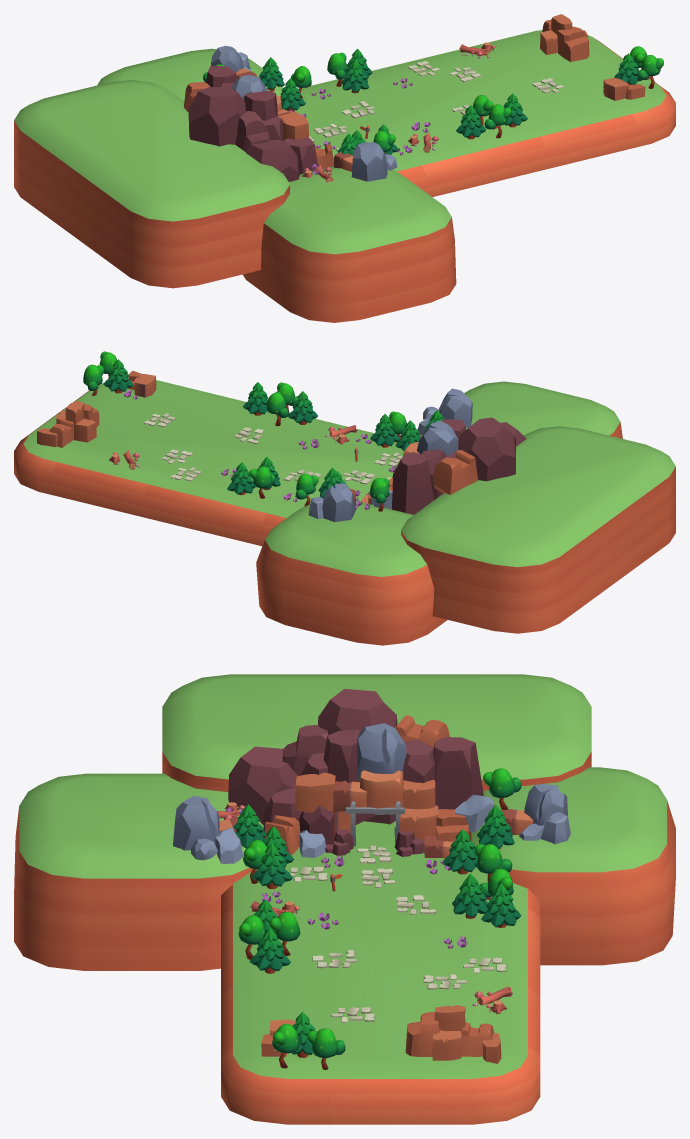
File: Grass Level (1).fbx
3 views of the same model, one above another, from view 1: azimuth 30°, elevation 25°; view 2: azimuth 150°, elevation 25°; view 3: azimuth 270°, elevation 25° (orthographic). The views are drawn at different scales.
Visible parts, largest first — view 1: Cube.005, Cube.003, Cube.007, Cube.006, Circle.017, Circle.008, Cylinder.001, Circle.266, Cube.078, Circle.279, Circle.278, Cube.614 (+12 smaller); view 2: Cube.005, Cube.003, Cube.006, Cube.007, Circle.017, Circle.009, Cube.002, Cylinder.002, Cylinder.068, Cylinder.001, Cylinder.017, Cylinder.045 (+12 smaller); view 3: Cube.003, Cube.007, Cube.005, Cube.006, Circle.008, Circle.009, Circle.017, Cylinder.068, Cylinder.001, Circle.279, Cube.613, Cube.614 (+32 smaller).
Part boxes in pixels (x1,y1,x2,y2): Cube.005: [14, 80, 289, 288]; Cube.003: [286, 30, 675, 196]; Cube.007: [242, 166, 456, 322]; Cube.006: [97, 48, 282, 100]; Circle.017: [188, 86, 246, 146]; Circle.008: [246, 140, 299, 181]; Cylinder.001: [351, 142, 387, 181]; Circle.266: [235, 111, 269, 151]; Cube.078: [557, 27, 589, 61]; Circle.279: [244, 91, 277, 120]; Circle.278: [284, 137, 317, 174]; Cube.614: [278, 111, 308, 140]; Cube.005: [401, 426, 675, 633]; Cube.003: [14, 377, 403, 546]; Cube.006: [256, 501, 447, 645]; Cube.007: [417, 381, 622, 438]; Circle.017: [458, 417, 515, 481]; Circle.009: [392, 452, 433, 514]; Cube.002: [432, 450, 477, 494]; Cylinder.002: [322, 483, 355, 522]; Cylinder.068: [416, 420, 458, 456]; Cylinder.001: [438, 388, 472, 427]; Cylinder.017: [103, 359, 133, 393]; Cylinder.045: [288, 391, 317, 424]; Cube.003: [221, 821, 540, 1124]; Cube.007: [14, 773, 263, 970]; Cube.005: [162, 674, 591, 791]; Cube.006: [469, 767, 675, 965]; Circle.008: [228, 746, 297, 824]; Circle.009: [433, 737, 483, 809]; Circle.017: [318, 689, 397, 734]; Cylinder.068: [357, 723, 406, 779]; Cylinder.001: [173, 795, 219, 850]; Circle.279: [323, 729, 375, 824]; Cube.613: [359, 770, 404, 808]; Cube.614: [295, 772, 335, 812].
Bounding box in the file's own units: 17.84 × 4.26 × 13.52.
